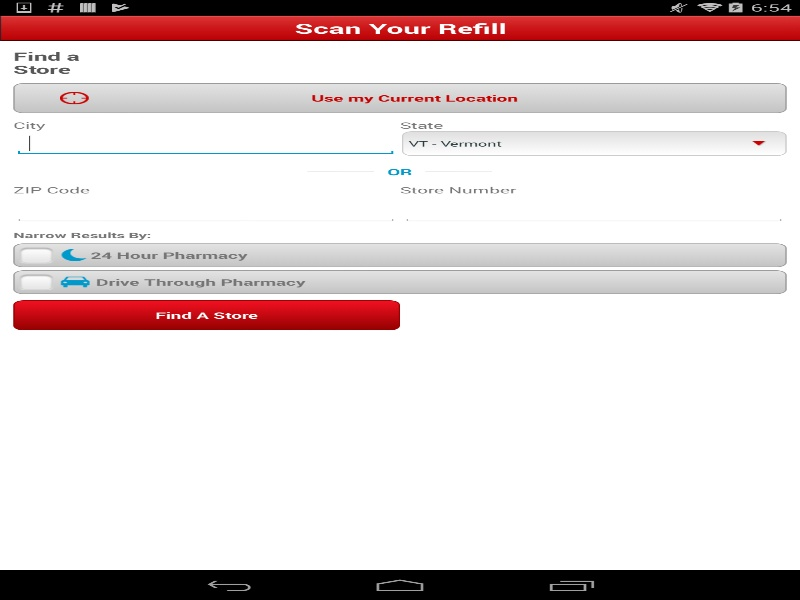Button: (13, 83, 786, 113), (13, 300, 400, 330)
Input: (13, 131, 398, 155), (13, 199, 398, 223), (401, 199, 786, 223)
